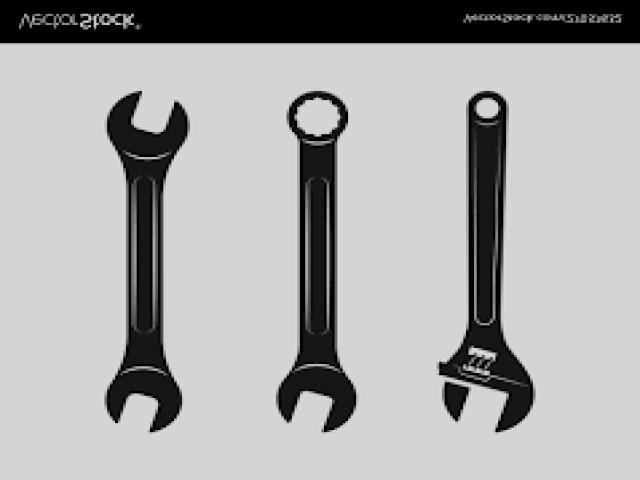Adjustable spanner: (439, 92, 534, 432)
Wrench: (105, 92, 189, 432), (278, 92, 356, 432)
